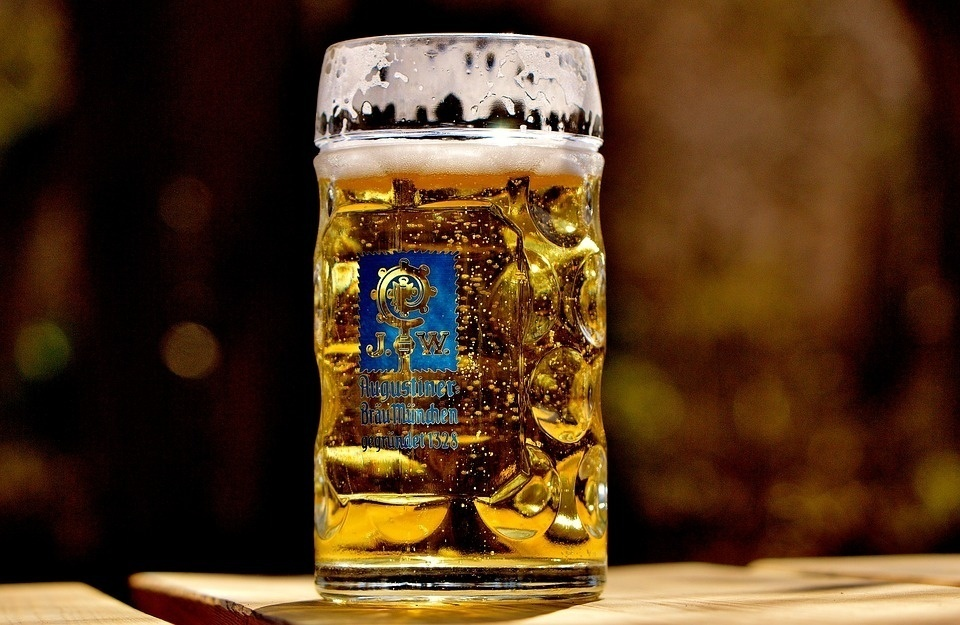whiskey: (305, 45, 594, 597)
